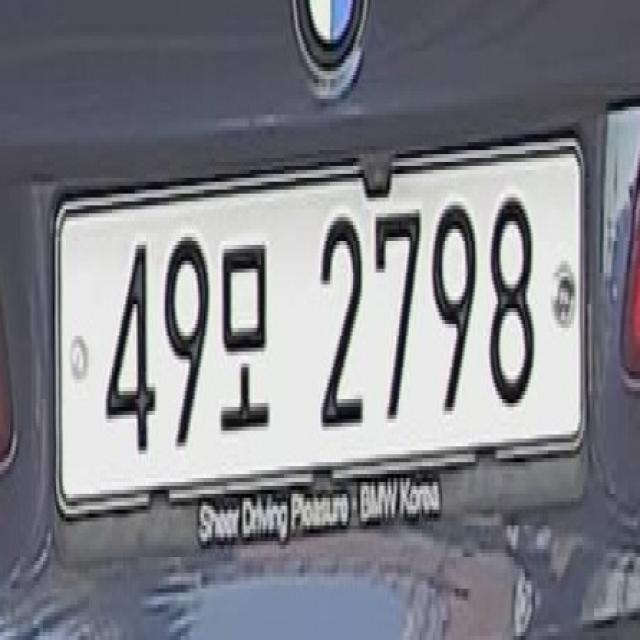2: (314, 202, 368, 432)
4: (104, 228, 159, 462)
7: (374, 187, 422, 433)
8: (488, 183, 546, 424)
9: (165, 217, 216, 465), (431, 192, 481, 430)
license_plate: (50, 121, 589, 551)
mo: (220, 222, 278, 456)
